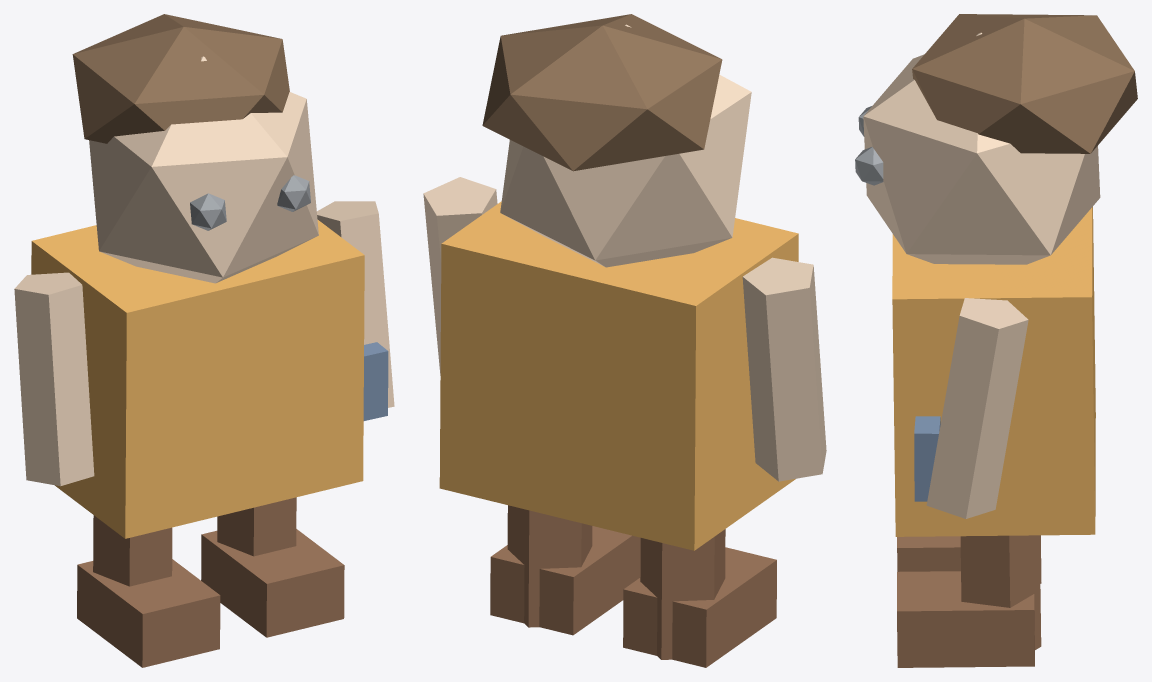
File: npcpose_villager_idle_05.glb
3 renders of one model, left to right at view 1: azimuth 30°, elevation 25°; view 2: azimuth 150°, elevation 25°; view 3: azimuth 270°, elevation 25°, orthographic. The views are drawn at different scales.
Visible parts, largest first — view 1: npcpose; view 2: npcpose; view 3: npcpose.
Part boxes in pixels (<box>): npcpose: <box>14,14,394,667</box>; npcpose: <box>423,14,826,667</box>; npcpose: <box>855,14,1137,667</box>.
Bounding box in the file's own units: 0.6978 × 1.06 × 0.4531.
